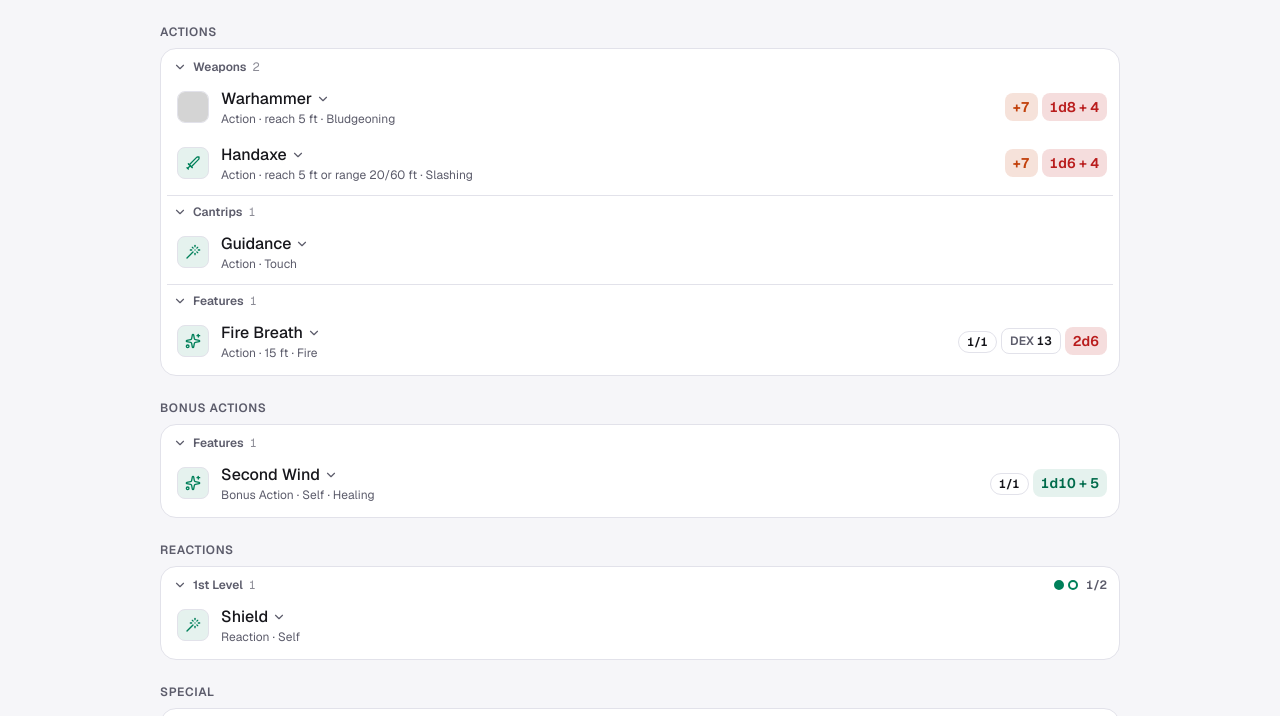
Test case: components/character-sheet/actions-tab › opens an action to all there is to know of it, and its description
This screenshot has width=1280, height=716.
Click the button "Warhammer Action · reach 5 ft · Bludgeoning".
click(193, 107)  # box [171,85,997,129]
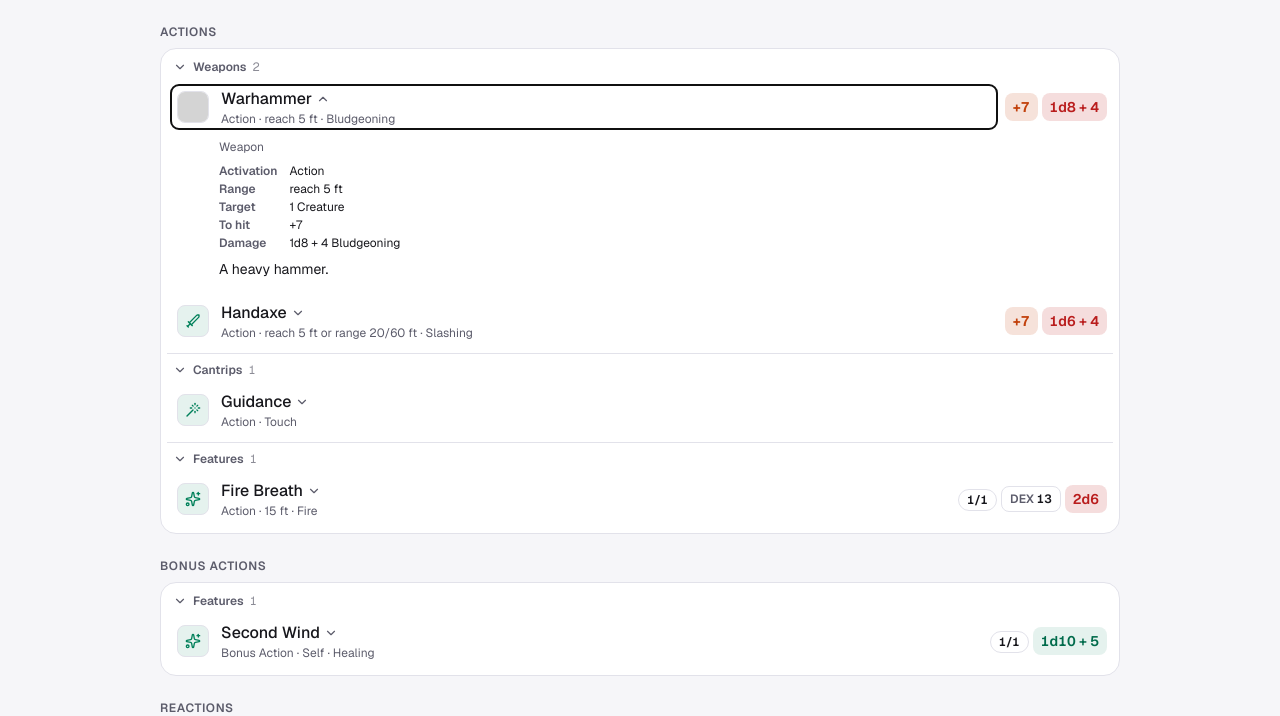
Now the button "Warhammer Action · reach 5 ft · Bludgeoning" is expanded
Now the text "Weapon" is shown, box [219,139,264,155]
Now the text "A heavy hammer." is shown, box [219,260,328,278]
Click the button "Warhammer Action · reach 5 ft · Bludgeoning".
click(193, 107)  # box [171,85,997,129]
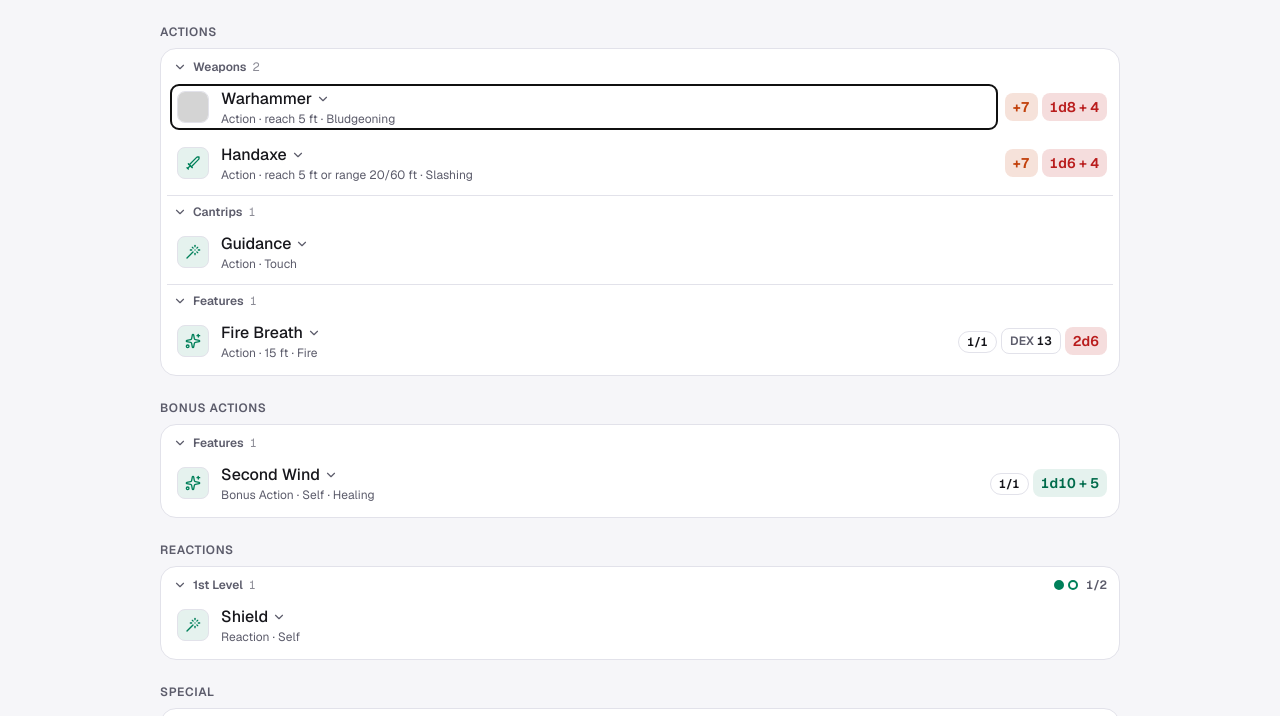
Now the button "Warhammer Action · reach 5 ft · Bludgeoning" is collapsed, box [171,85,997,129]
